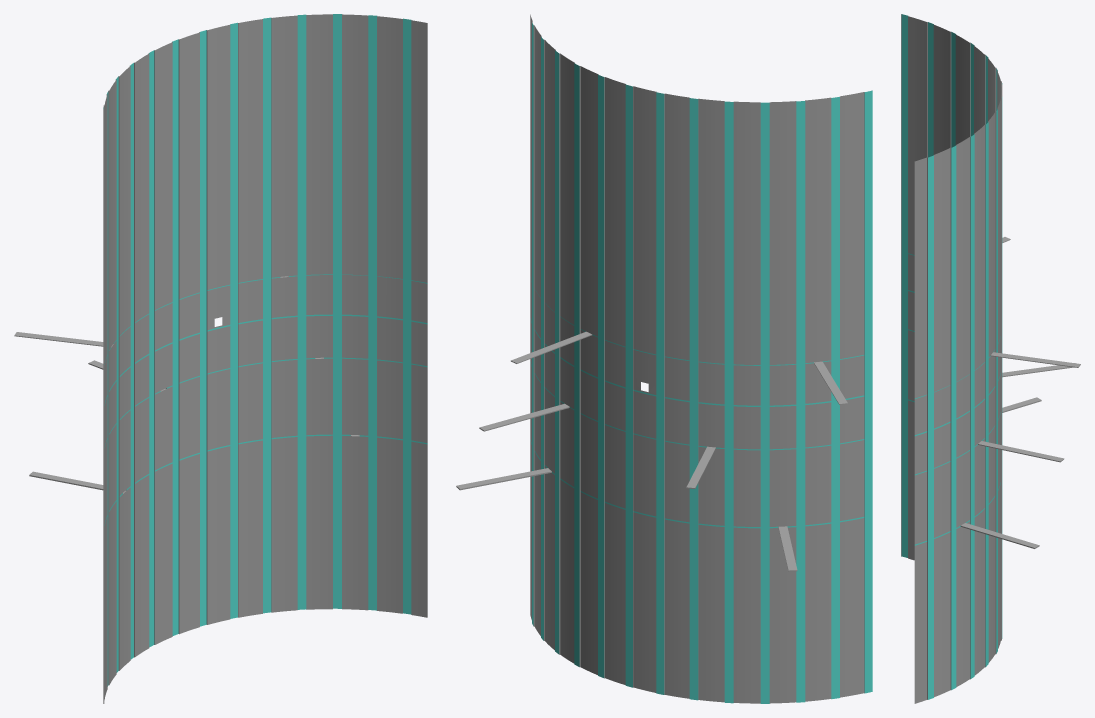
File: HallwayTransistionWall2.fbx
3 renders of one model, left to right at view 1: azimuth 30°, elevation 25°; view 2: azimuth 150°, elevation 25°; view 3: azimuth 270°, elevation 25°, orthographic. The views are drawn at different scales.
Parts seen in each view (by area): view 1: pCylinder1; view 2: pCylinder1; view 3: pCylinder1.
Part boxes in pixels (bbox=[...]): pCylinder1: bbox=[14, 14, 427, 703]; pCylinder1: bbox=[456, 14, 872, 703]; pCylinder1: bbox=[901, 14, 1080, 703].
Bounding box in the file's own units: 46076 × 70551 × 21181.
